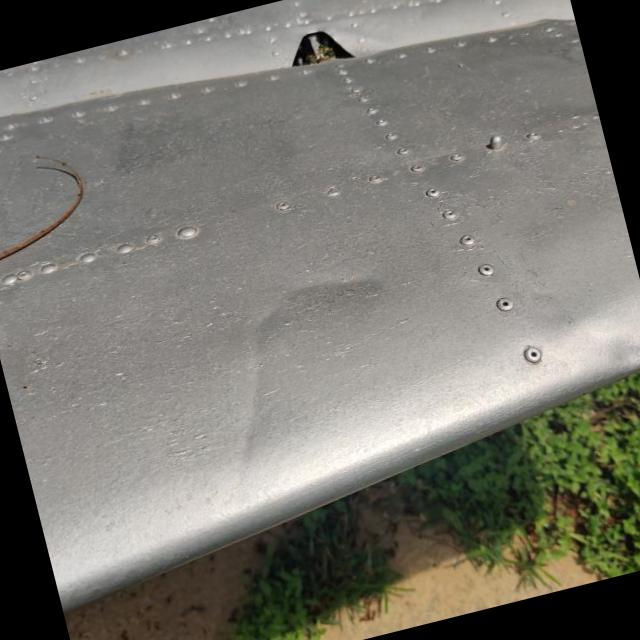Dent: (178, 287, 316, 479), (260, 208, 424, 359), (582, 294, 640, 391)
